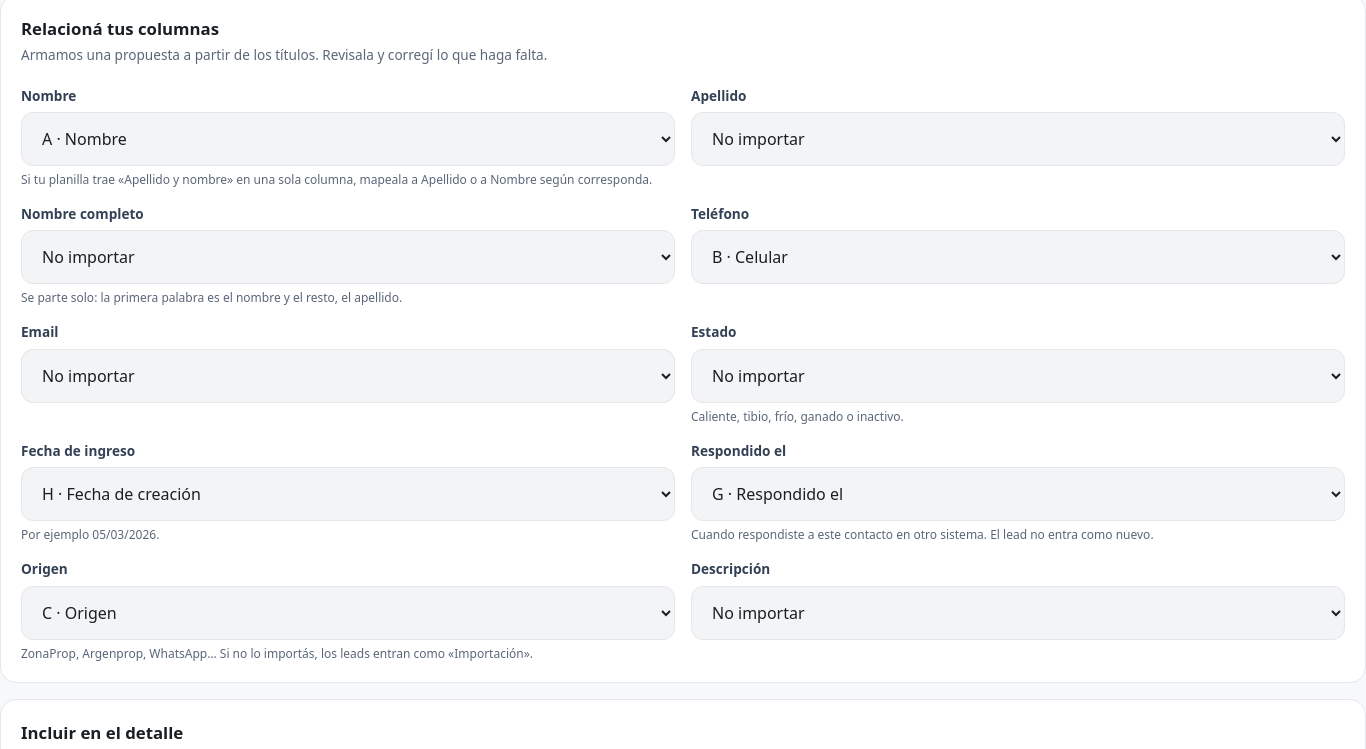
PasoColumnas: origen › con "No importar" el origen deja de mandarse: la vista previa queda en "—"
The image size is (1366, 749).
Select "No importar" in the dropdown labelled "Origen": (348, 612) top-left (21, 586), bottom-right (675, 640)
(page scrolled)
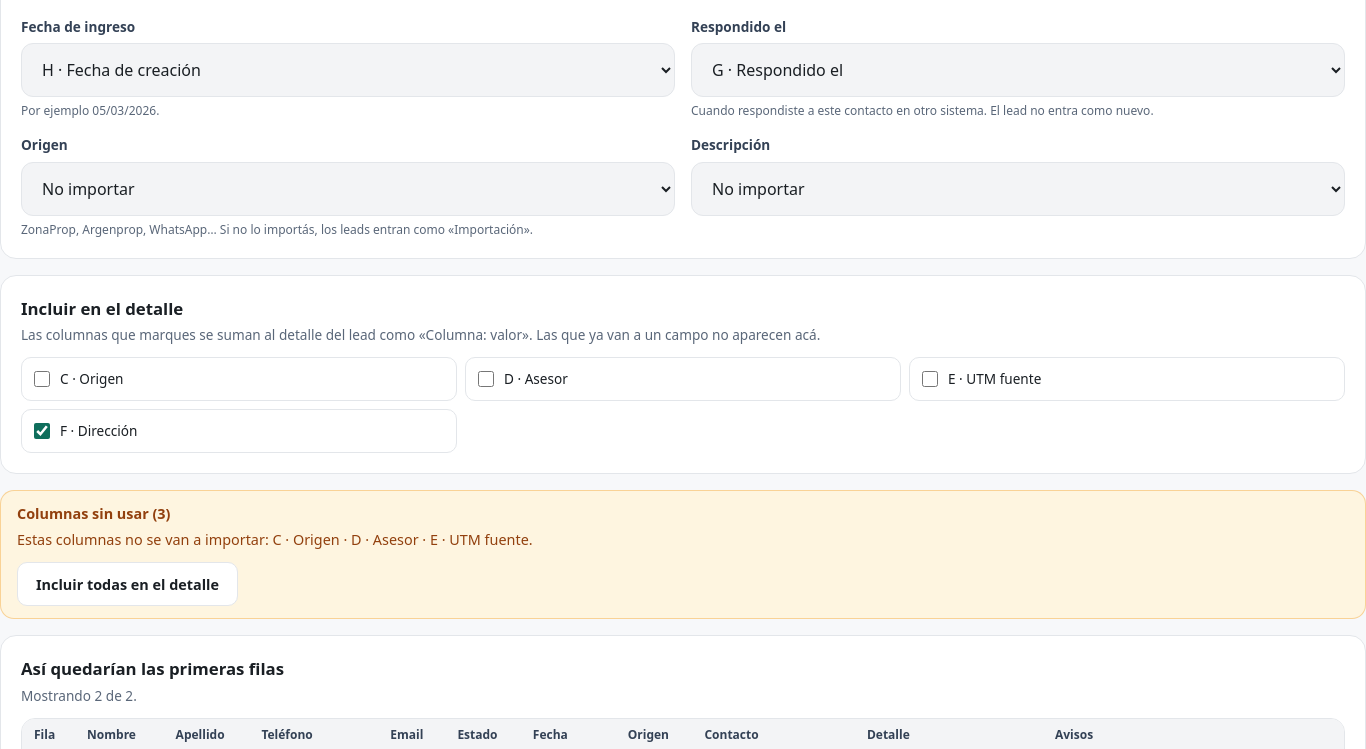
Result: the checkbox labelled "C · Origen" is shown at top-left (34, 371), bottom-right (50, 387)
